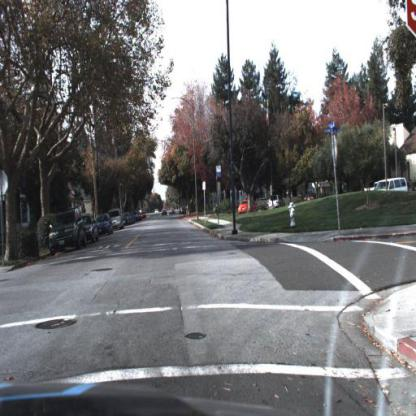car: (45, 204, 89, 260), (373, 175, 412, 193), (81, 211, 99, 247), (373, 178, 407, 193), (94, 211, 115, 235), (236, 196, 258, 216), (85, 215, 99, 244), (109, 208, 126, 231), (98, 214, 113, 239), (237, 199, 257, 215), (269, 195, 285, 213), (113, 208, 124, 231), (268, 196, 284, 209), (304, 193, 316, 202)
